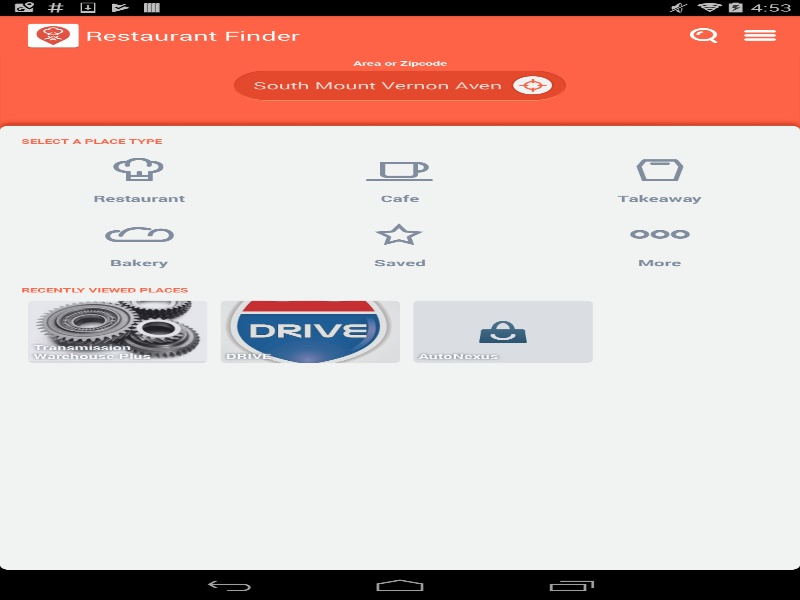Input: (233, 70, 566, 100)
